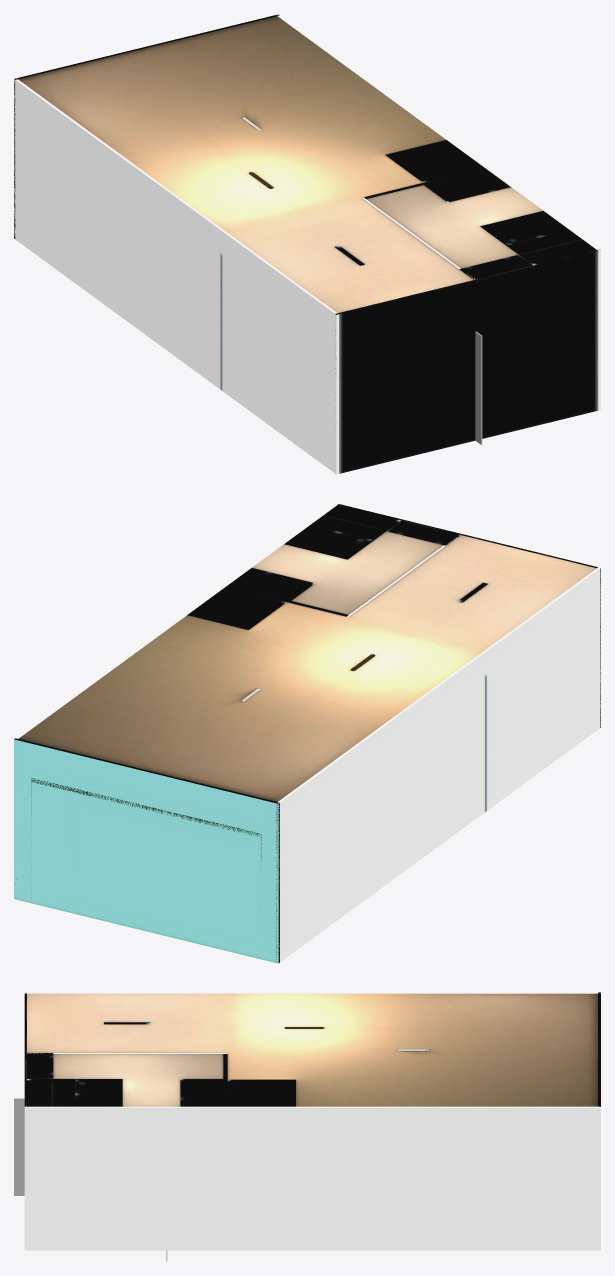
The model's file is huis-full.glb.
The picture shows the model from 3 angles, top to bottom: view 1: azimuth 30°, elevation 25°; view 2: azimuth 150°, elevation 25°; view 3: azimuth 270°, elevation 25°; orthographic projection. The views are drawn at different scales.
Visible parts, largest first — view 1: BAKE_schil, BG schoonmaakkastdeur v2; view 2: BAKE_schil; view 3: BAKE_schil, BG schoonmaakkastdeur v2.
Part boxes in pixels (bbox=[...]): BAKE_schil: bbox=[14, 14, 600, 474]; BG schoonmaakkastdeur v2: bbox=[475, 331, 482, 444]; BAKE_schil: bbox=[14, 503, 600, 963]; BAKE_schil: bbox=[24, 992, 600, 1250]; BG schoonmaakkastdeur v2: bbox=[14, 1098, 24, 1195].
Size of the model in its own units: 5.2 by 3.42 by 11.18.
58 materials, 6 textured.
